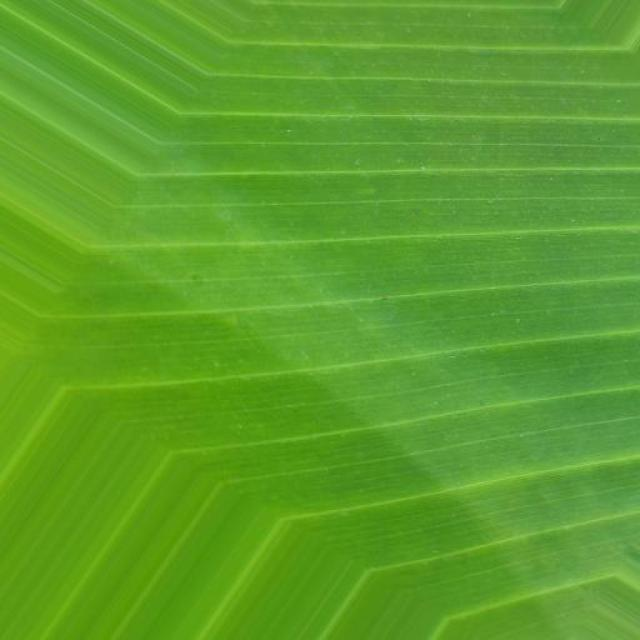Black_leaf_spot: (0, 28, 640, 562)
